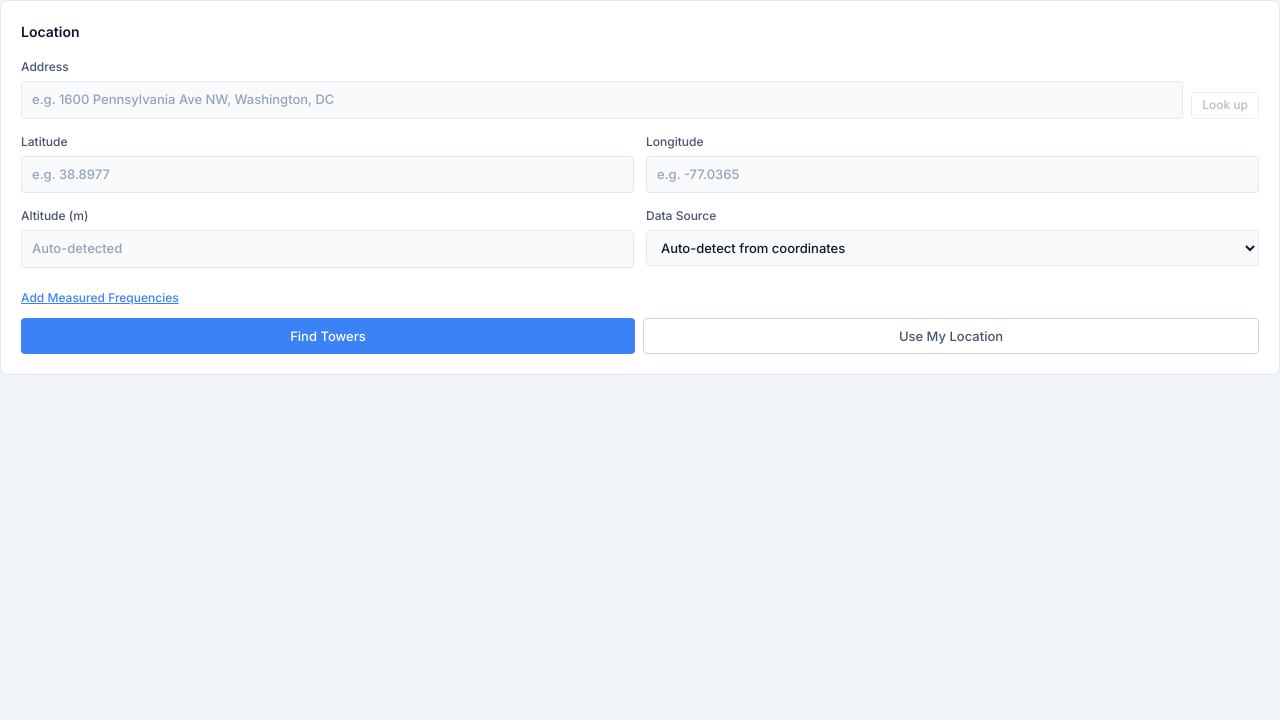
SearchForm measured frequencies › adds another frequency row on request
Click the button "Add Measured Frequencies" at (100, 298), box [21,288,179,306]
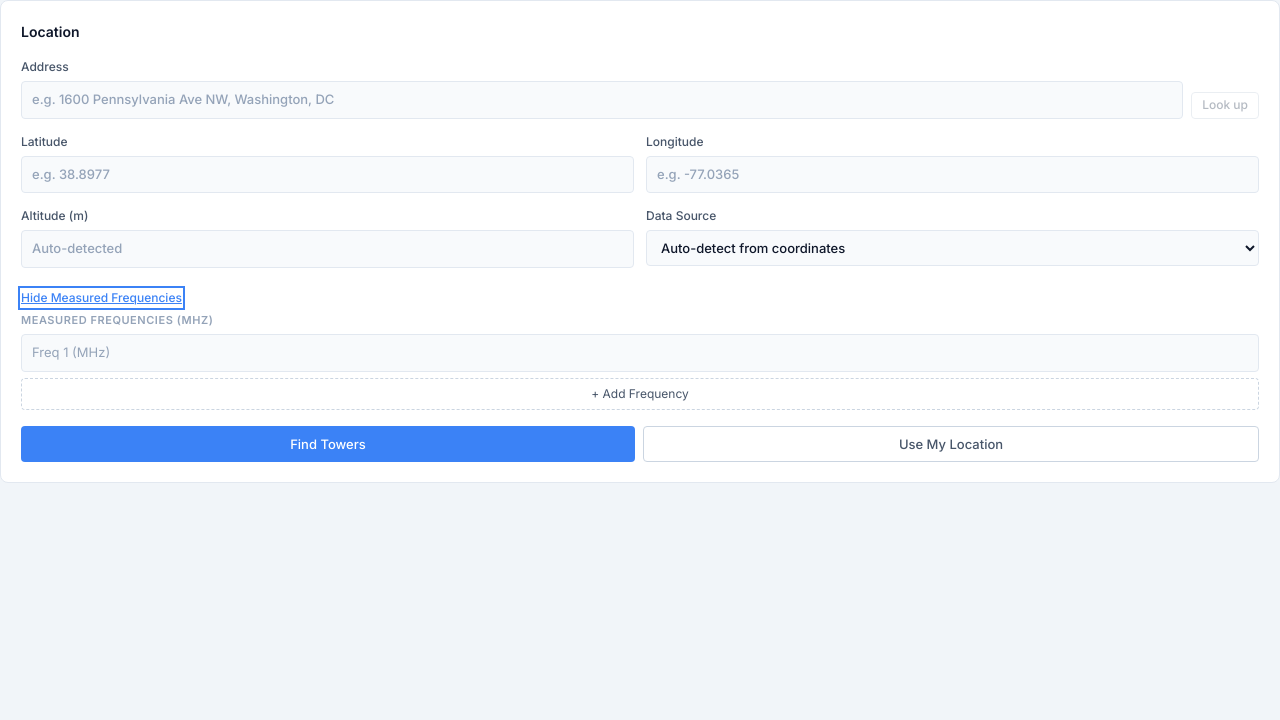
Click the button "+ Add Frequency" at (640, 394), box [21,378,1259,410]
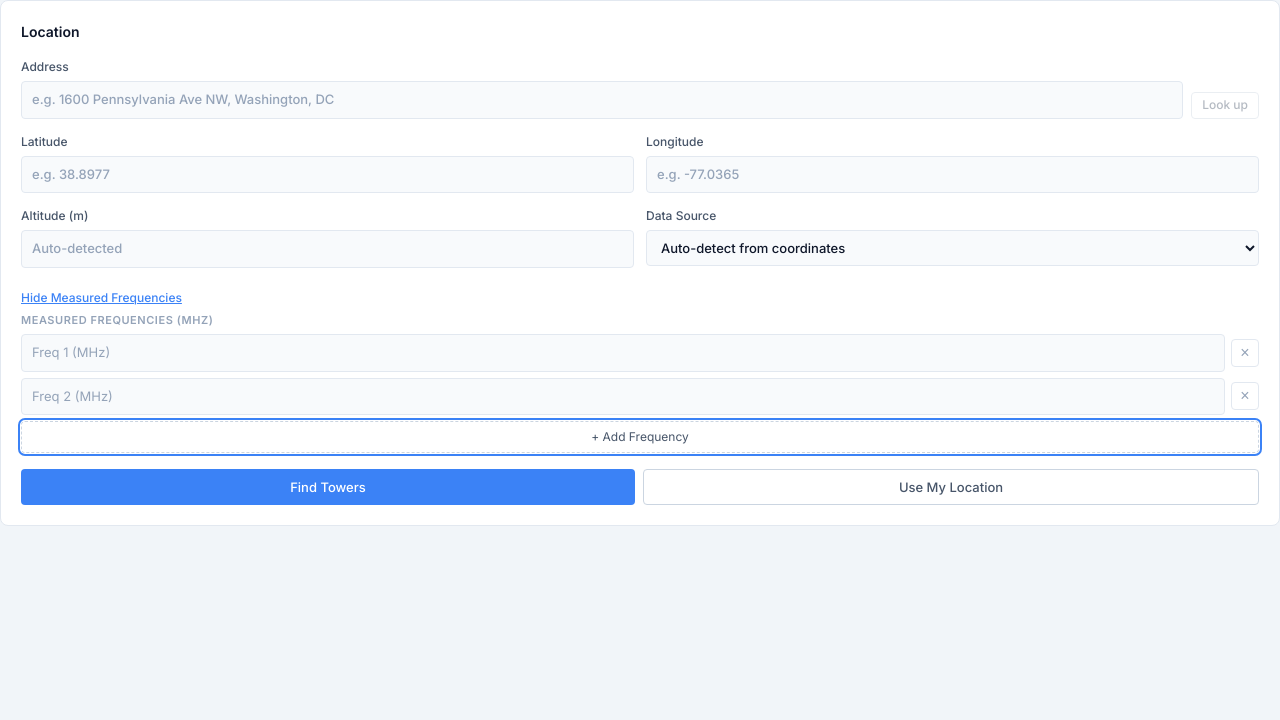
Check: the number field named "frequency 2" is shown, box [21,378,1225,415]
